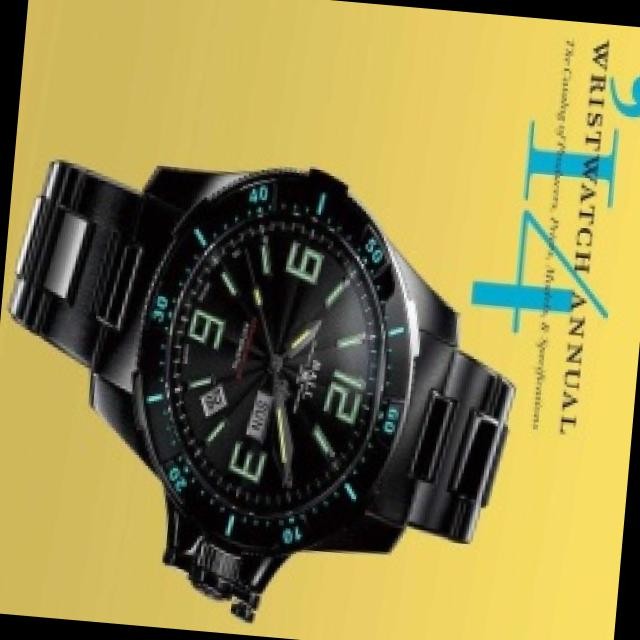saat: (0, 129, 546, 640)
